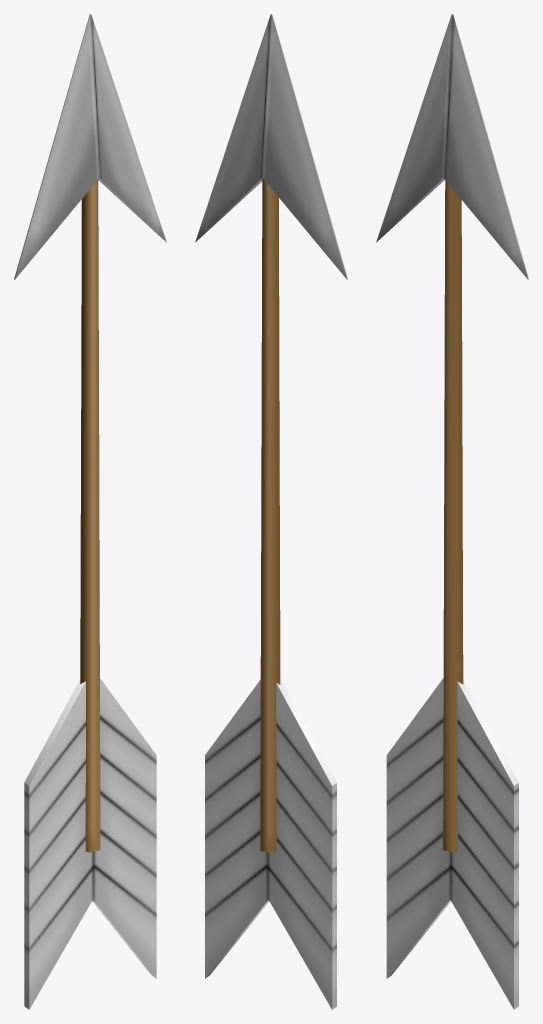
The model's file is BowArrow.FBX.
The picture shows the model from 3 angles, left to right: view 1: azimuth 30°, elevation 25°; view 2: azimuth 150°, elevation 25°; view 3: azimuth 330°, elevation 25°; orthographic projection.
Parts seen in each view (by area): view 1: Arrow; view 2: Arrow; view 3: Arrow.
Boxes of the visible parts, bbox=[...] form: Arrow: bbox=[14, 14, 166, 1009]; Arrow: bbox=[195, 14, 347, 1009]; Arrow: bbox=[376, 14, 528, 1009].
Size of the model in its own units: 7.54 by 1.55 by 46.36.
Materials: 1 (1 with a texture image).
